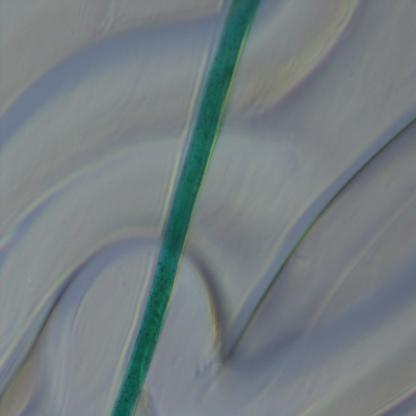Background material: (206, 37, 416, 414), (0, 28, 116, 416)
Microfibre: (111, 0, 258, 414)
